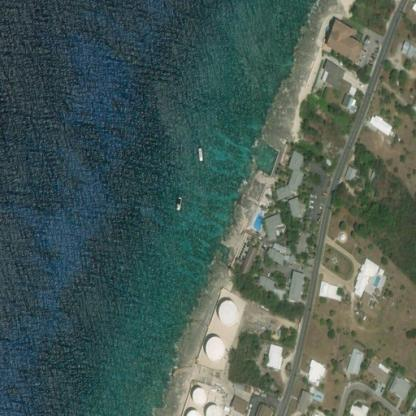ship: (191, 144, 207, 163), (172, 193, 186, 212)
